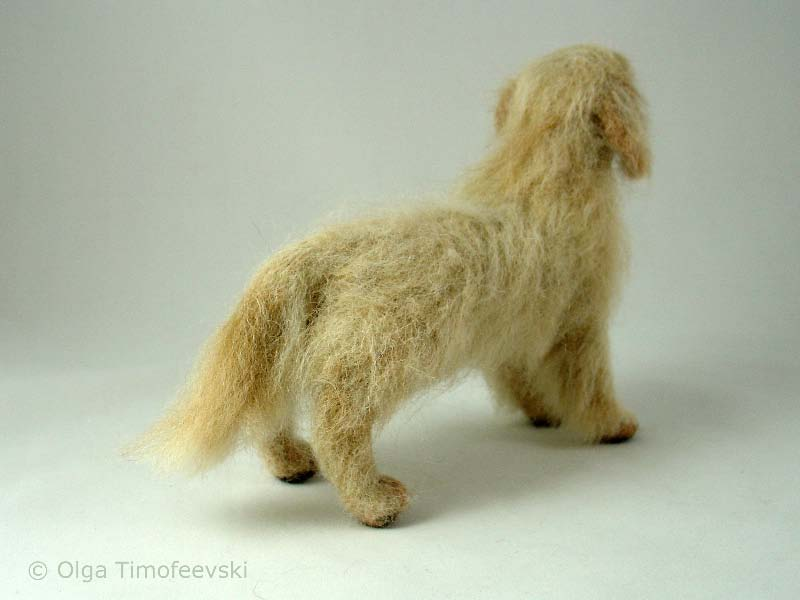dog: (191, 46, 654, 531)
